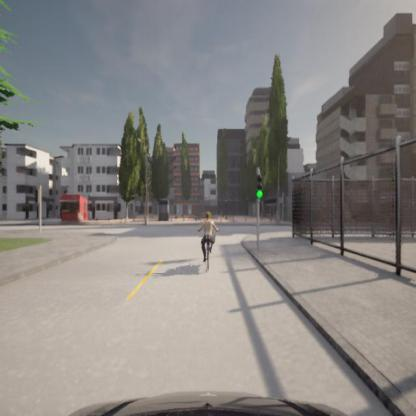bike: (196, 214, 219, 270)
traffic_light_green: (256, 170, 264, 199)
